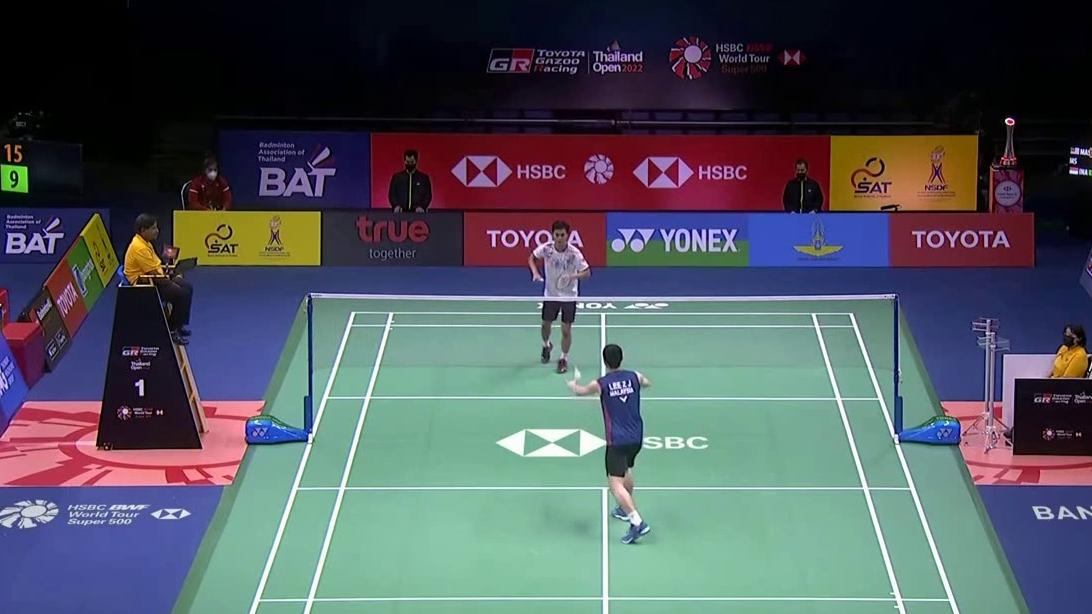racket: (533, 272, 571, 290)
shuttle: (573, 365, 581, 379)
